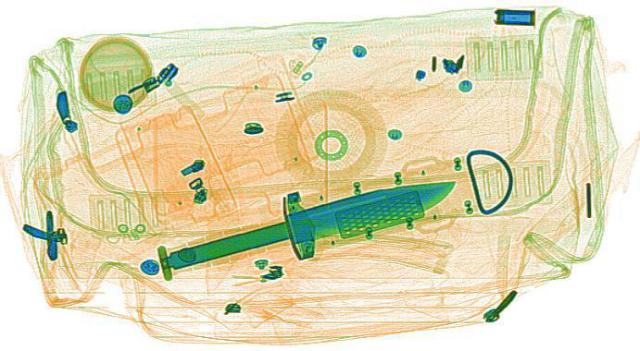Knife: (110, 152, 490, 297)
